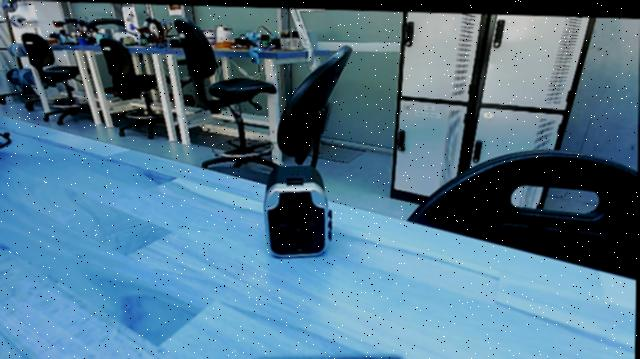adapter: (260, 157, 342, 265)
